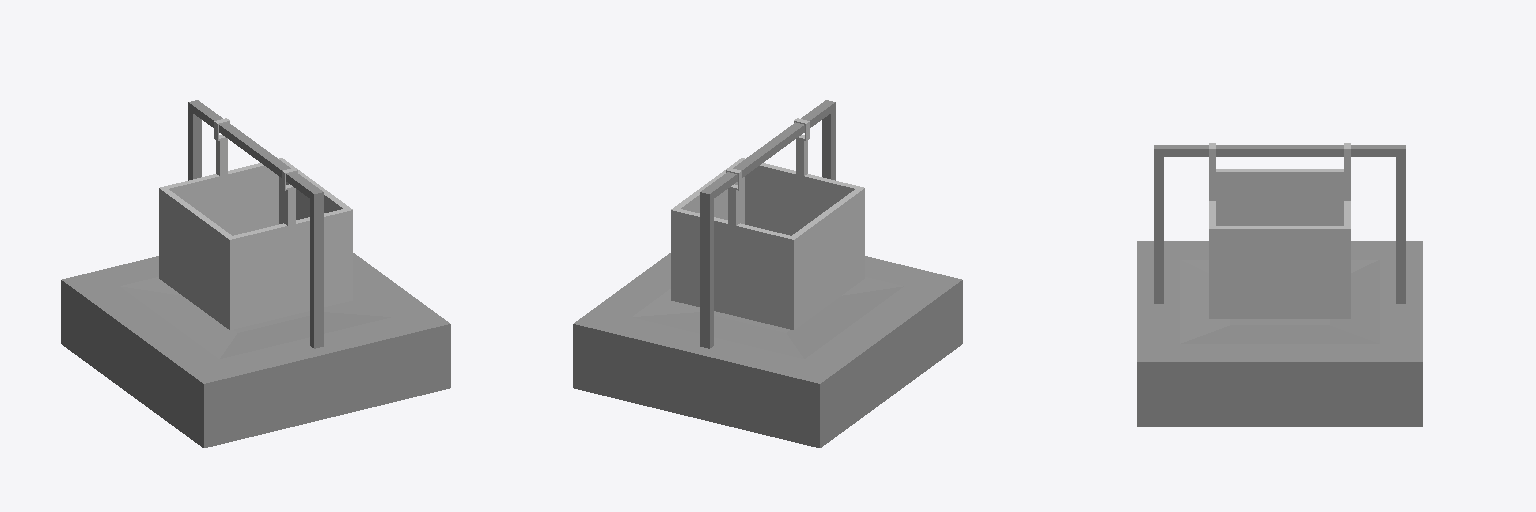
Rendered from cauldron.obj.
3 renders of one model, left to right at view 1: azimuth 30°, elevation 25°; view 2: azimuth 150°, elevation 25°; view 3: azimuth 270°, elevation 25°, orthographic.
Parts seen in each view (by area): view 1: Cube, Cube.001; view 2: Cube, Cube.001; view 3: Cube, Cube.001.
Boxes of the visible parts, x1,y1,x2,y2 form: Cube: [61, 100, 450, 447]; Cube.001: [159, 118, 352, 329]; Cube: [573, 100, 962, 447]; Cube.001: [671, 118, 864, 329]; Cube: [1137, 145, 1422, 426]; Cube.001: [1209, 143, 1350, 318].
Bounding box in the file's own units: 2 × 1.71 × 2.